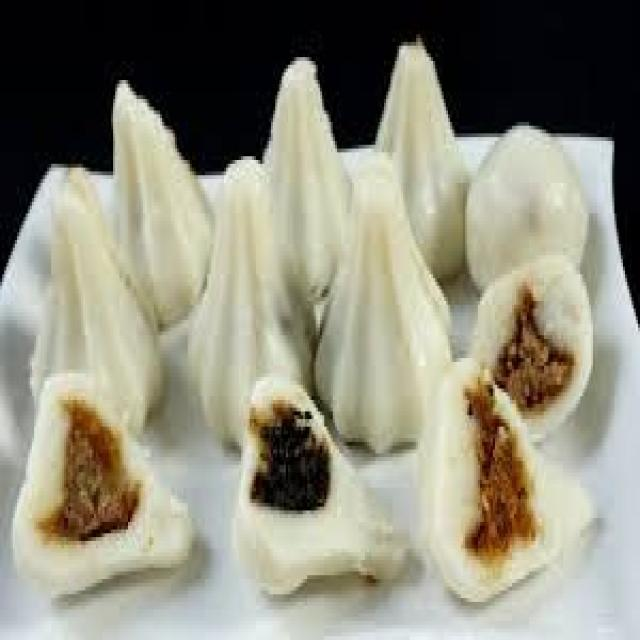poorna kolukattai: (20, 19, 621, 629)
